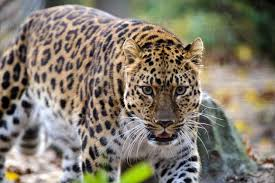amur_leopard: (9, 4, 224, 181)
